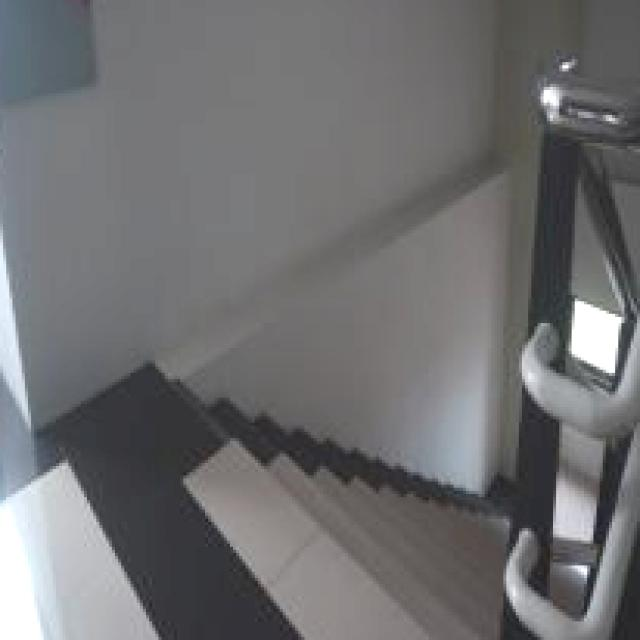downstair: (169, 405, 495, 640)
